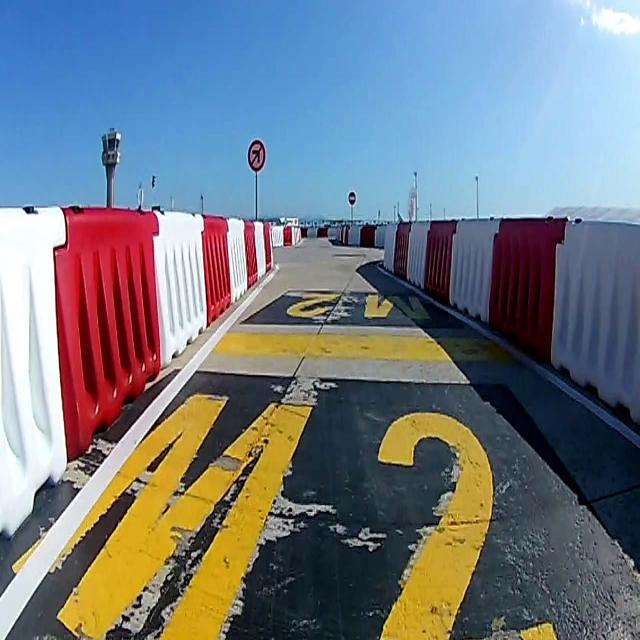girisyok: (348, 191, 356, 205)
soladonulmez: (248, 140, 266, 172)
